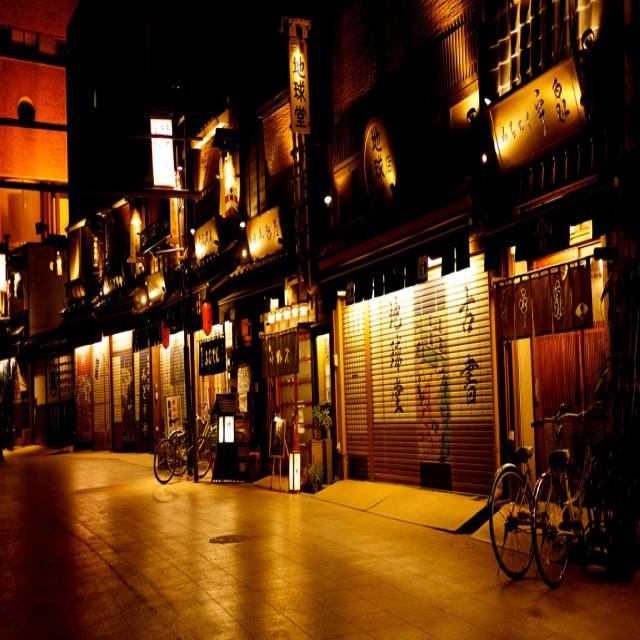Bicycle: (528, 400, 636, 592), (477, 436, 540, 603), (132, 406, 233, 490)
